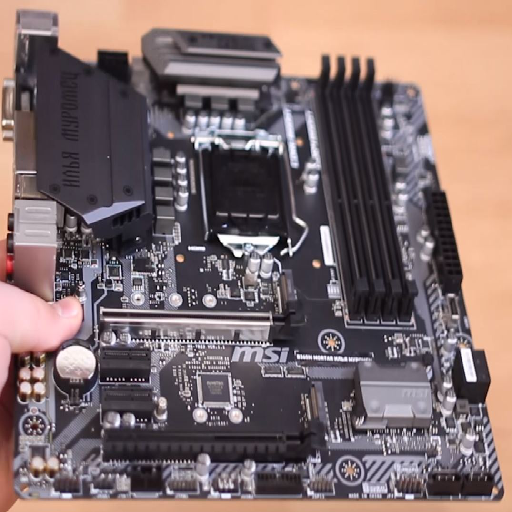CPU: (197, 138, 291, 257)
GPU: (100, 425, 328, 463), (95, 307, 310, 344)
MOTHERBOARD: (8, 11, 507, 506)
RAM: (314, 53, 417, 326)
SSD: (300, 380, 328, 428), (274, 267, 299, 311)
